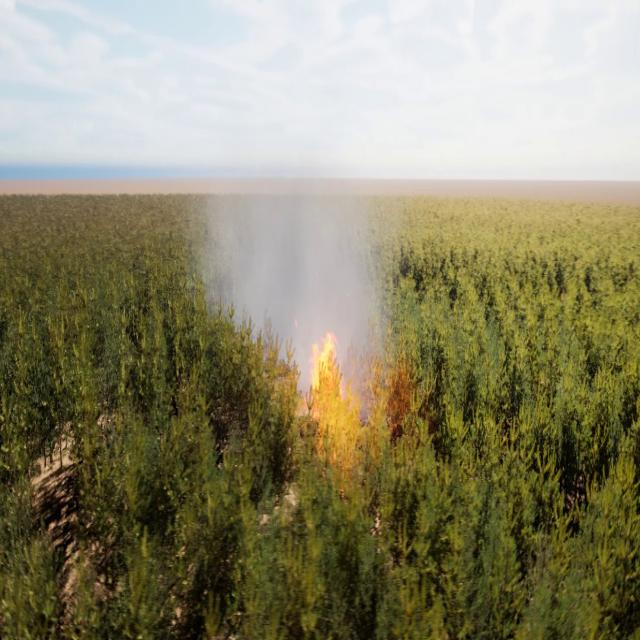fire: (302, 324, 344, 424)
smoke: (186, 115, 390, 426)
